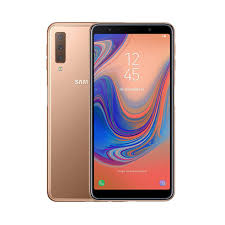samsung: (86, 19, 177, 202), (45, 21, 92, 202)
